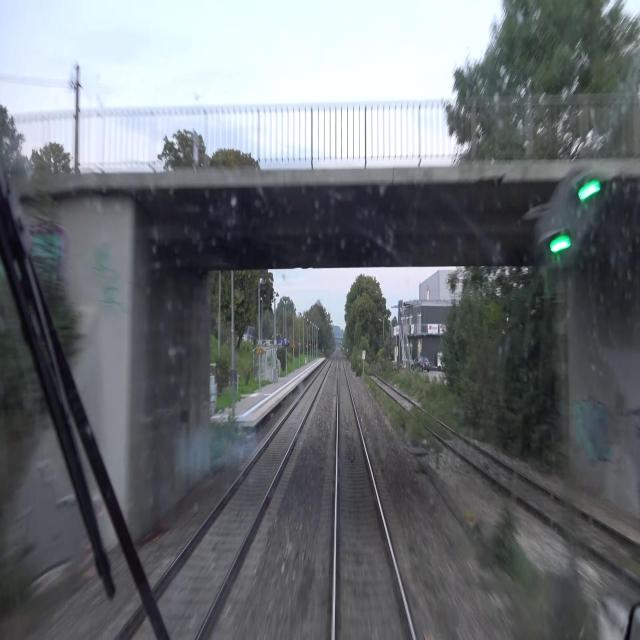rail-track: (392, 392, 640, 579), (167, 367, 326, 639), (336, 360, 411, 639)
